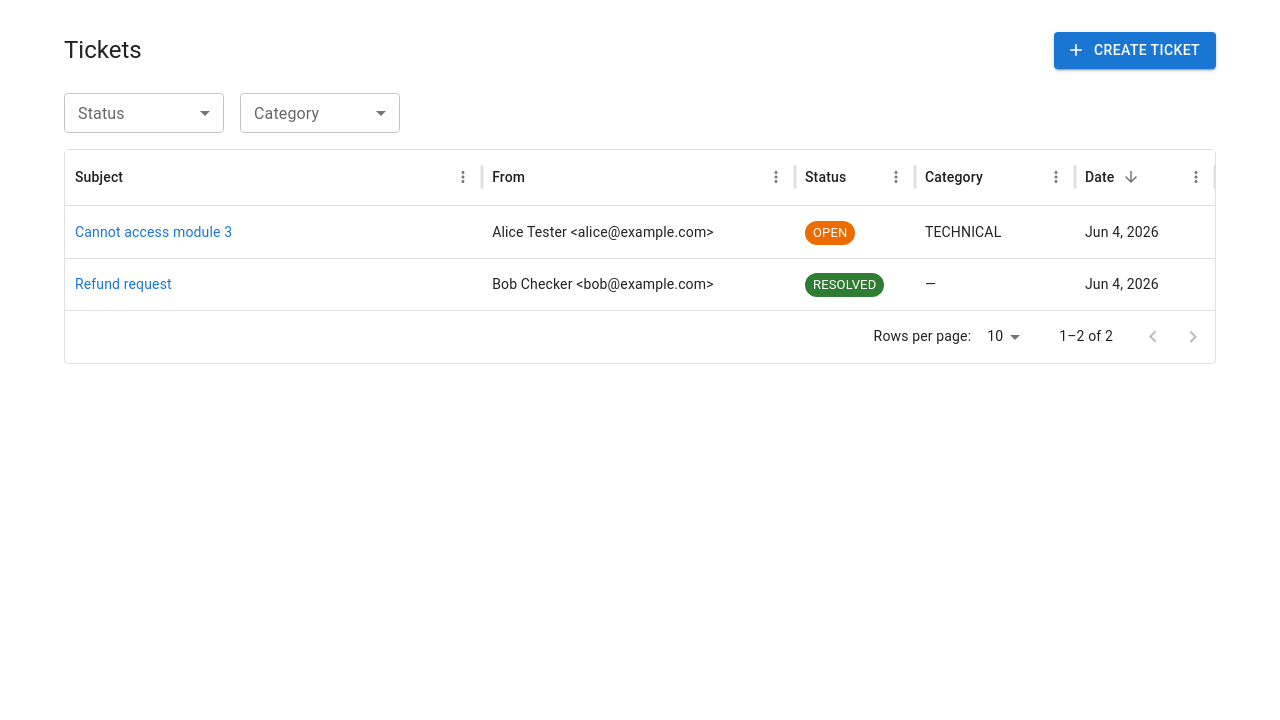
Test case: TicketsPage › "Create Ticket" dialog › shows the email validation error when an invalid email is entered
Check: the link "Cannot access module 3" is shown, box [75,224,232,240]
Click the button "Create Ticket" at (1135, 50), box [1054,32,1216,68]
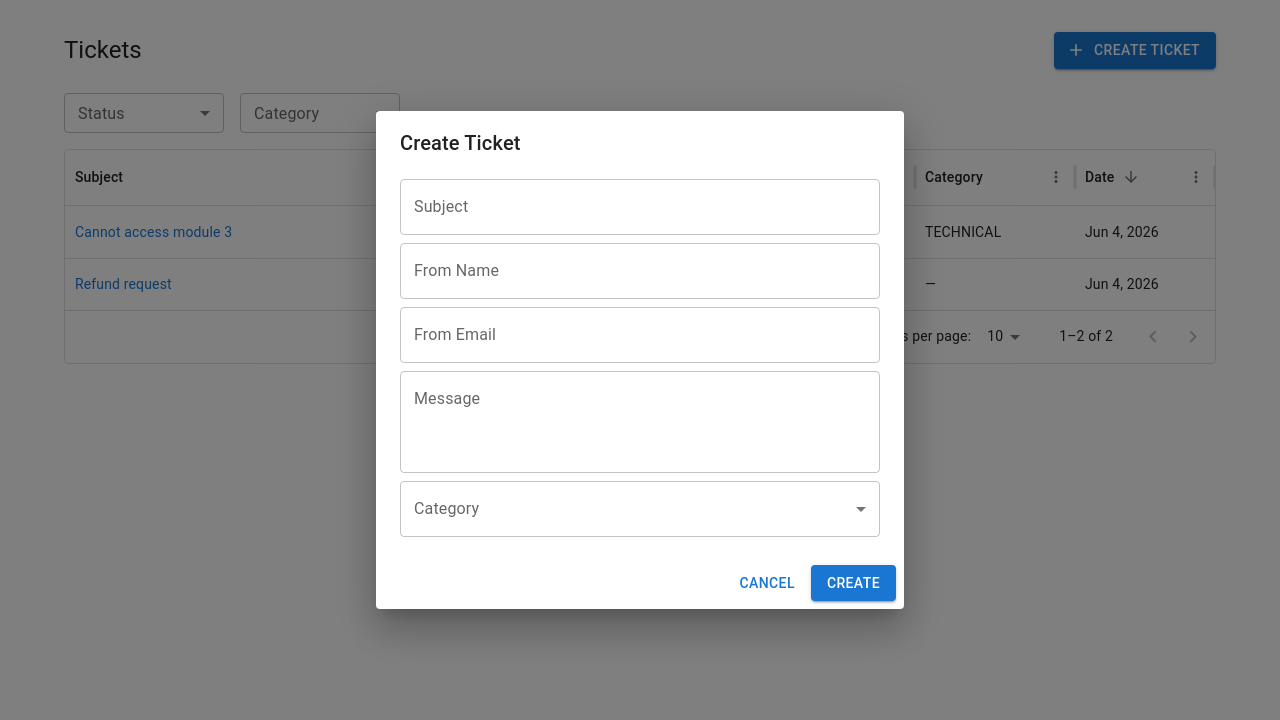
Type "A subject" into the field labelled "Subject" at (640, 207), box [400,179,880,235]
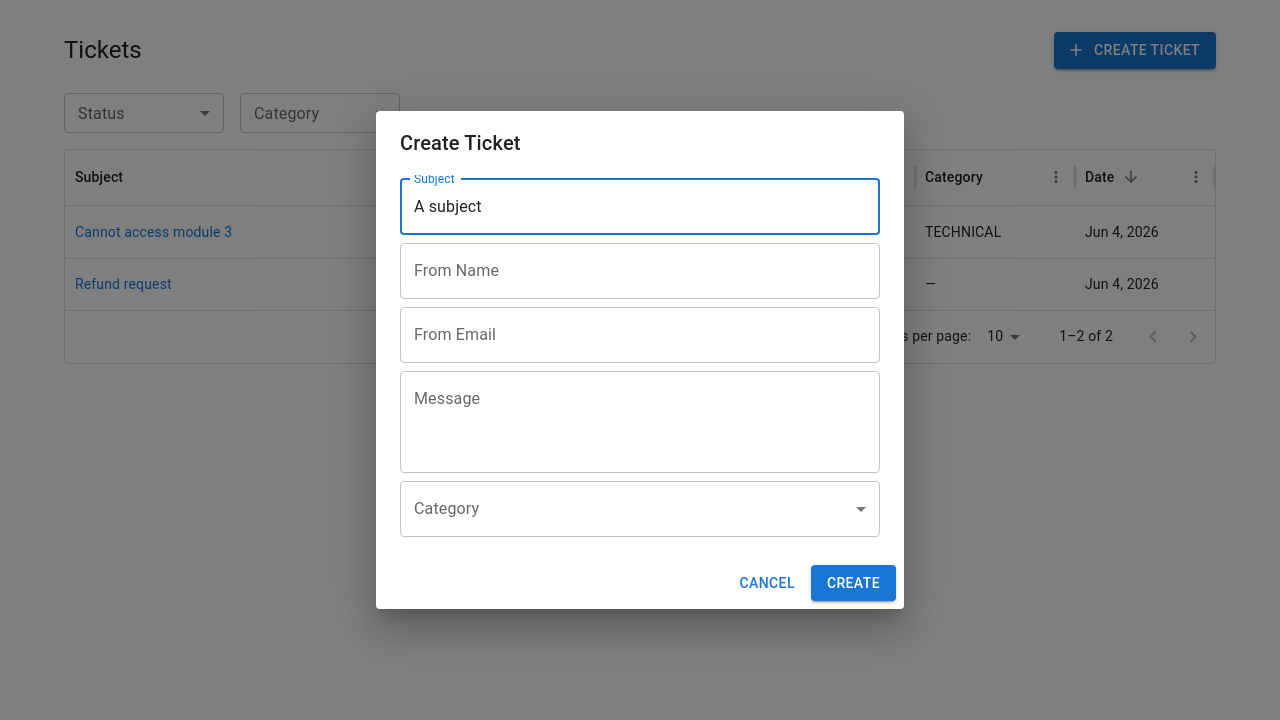
Type "A name" into the field labelled "From Name" at (640, 271), box [400,243,880,299]
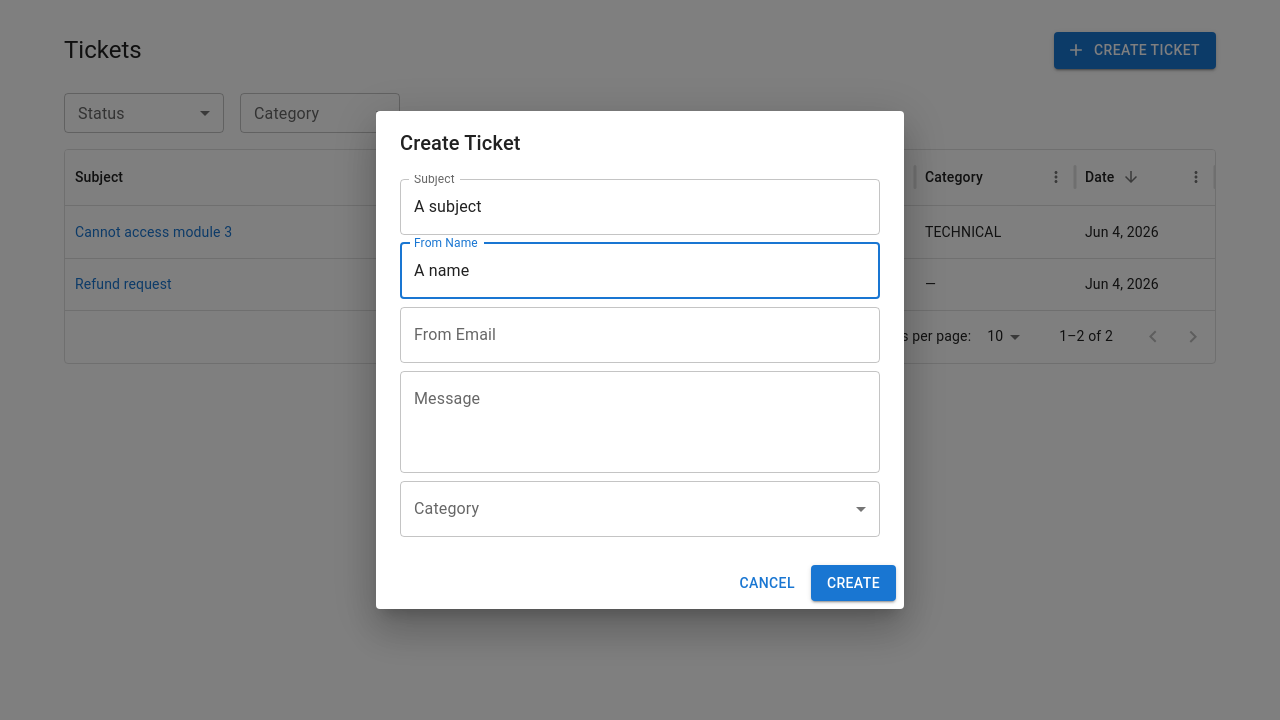
Type "not-an-email" into the field labelled "From Email" at (640, 335), box [400,307,880,363]
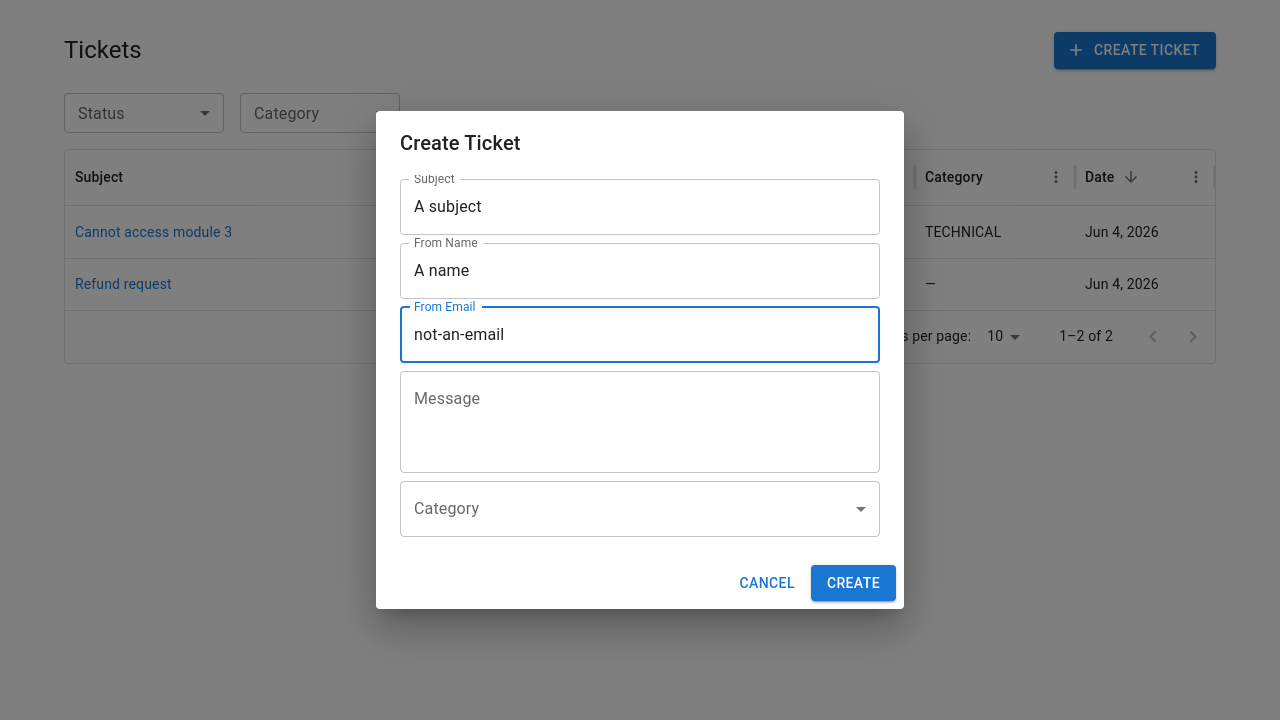
Type "A body" into the text box labelled "Message" at (640, 422), box [414,387,866,456]
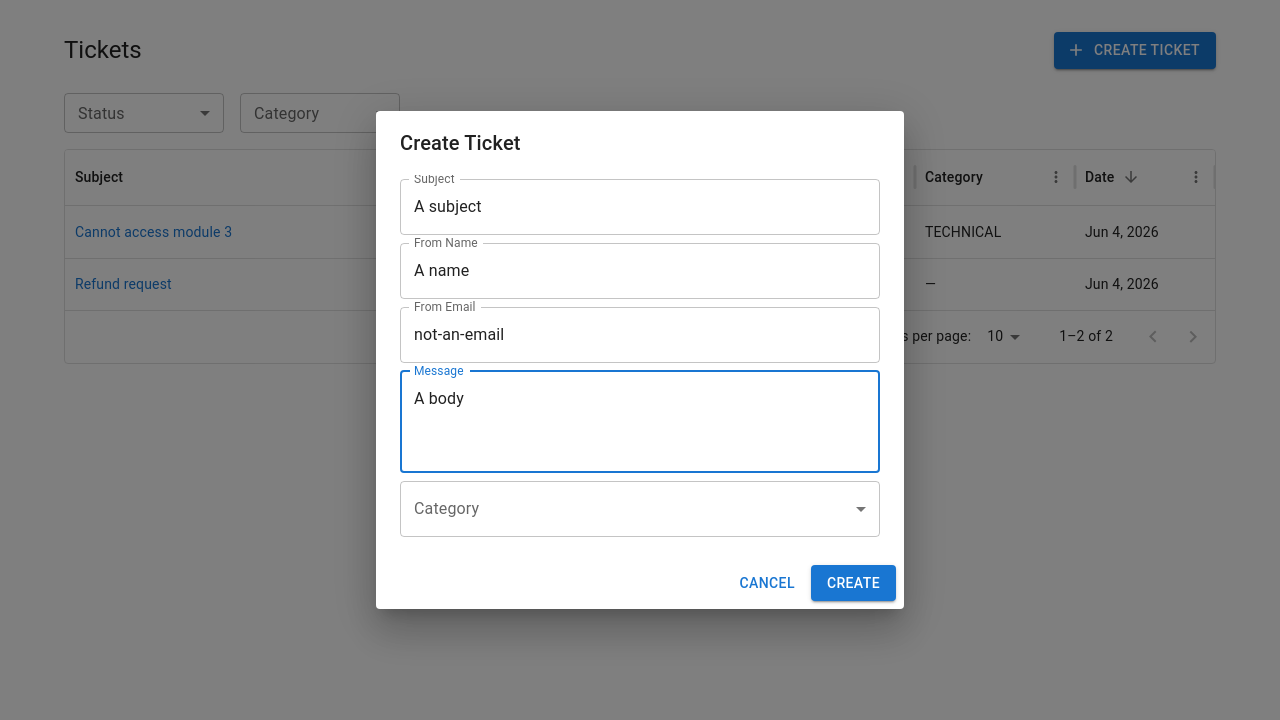
Click the button "Create" at (853, 583), box [811,565,896,601]
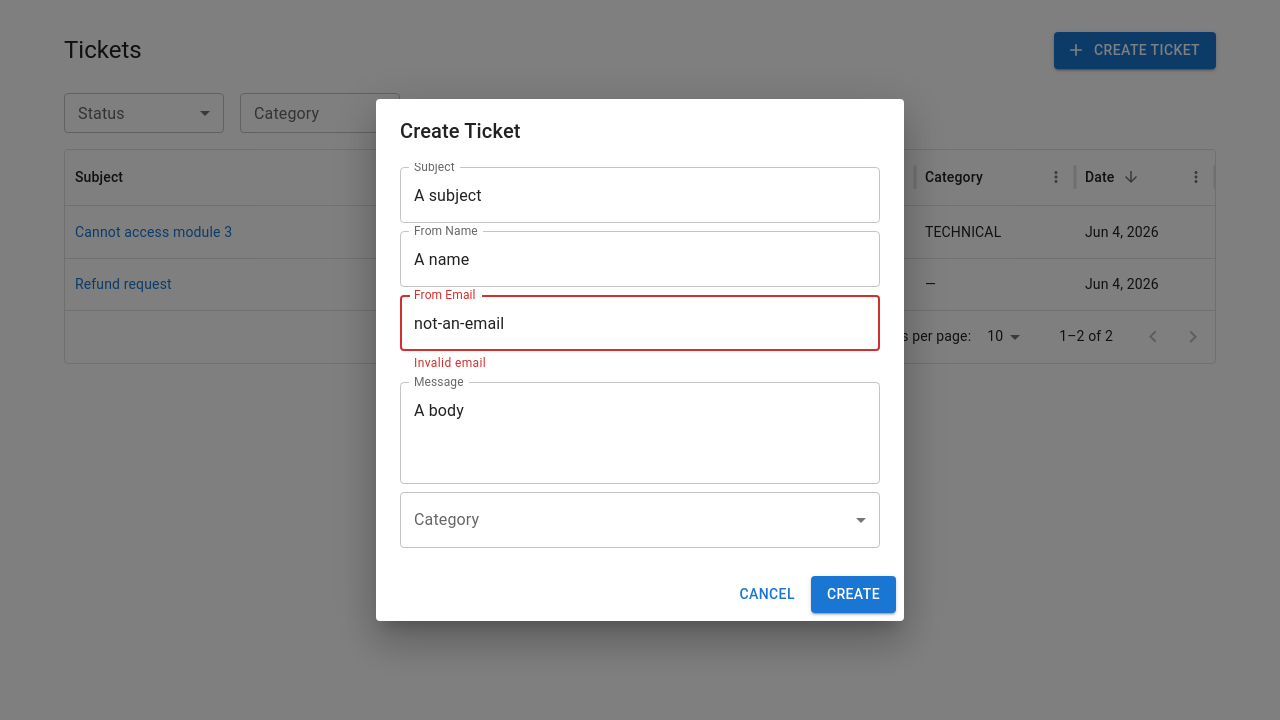
Check: the text "Invalid email" is shown, box [414,356,486,370]
